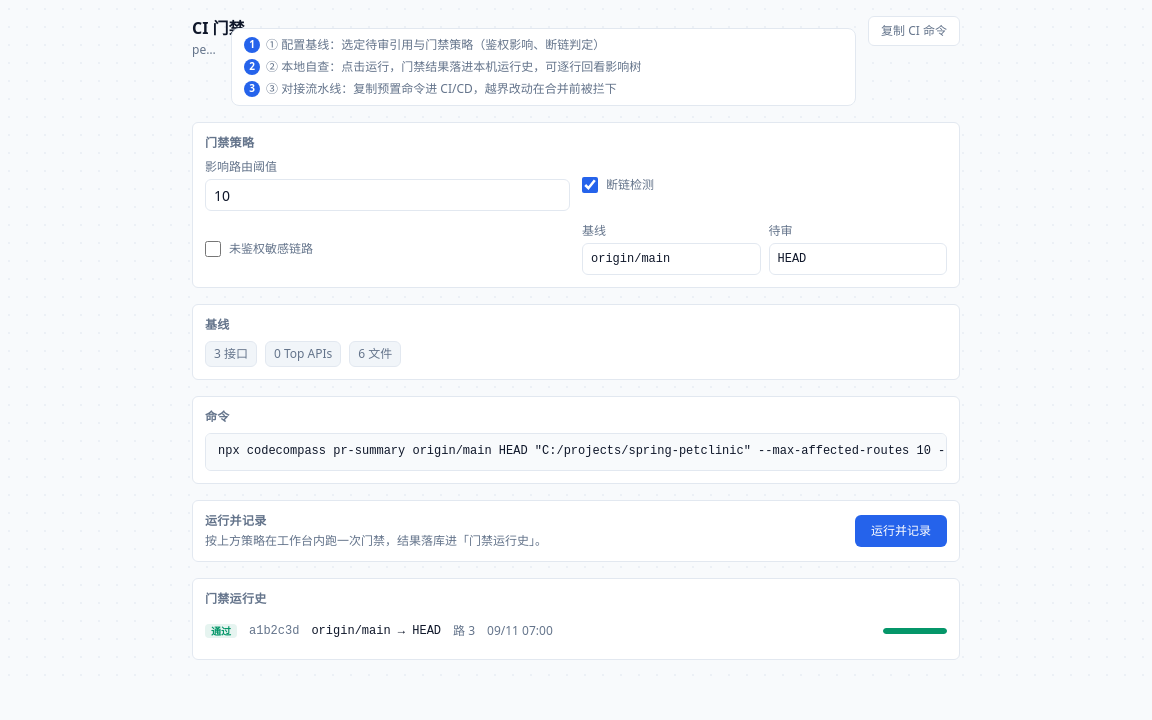
CiGateView (v0.26-B ticket 02 — 三段化：运行并记录 + 门禁运行史) › runs the gate and prepends the echo row to the history list, then shows its verdict badge
Expected: the number of list items with test id "gate-run-row" is 1, x1=205 y1=622 x2=947 y2=638
What coordinates should you click on to do the following:
click the button with test id "gate-run"
I would click on:
 (901, 530)
Its box is x1=855 y1=514 x2=947 y2=546.
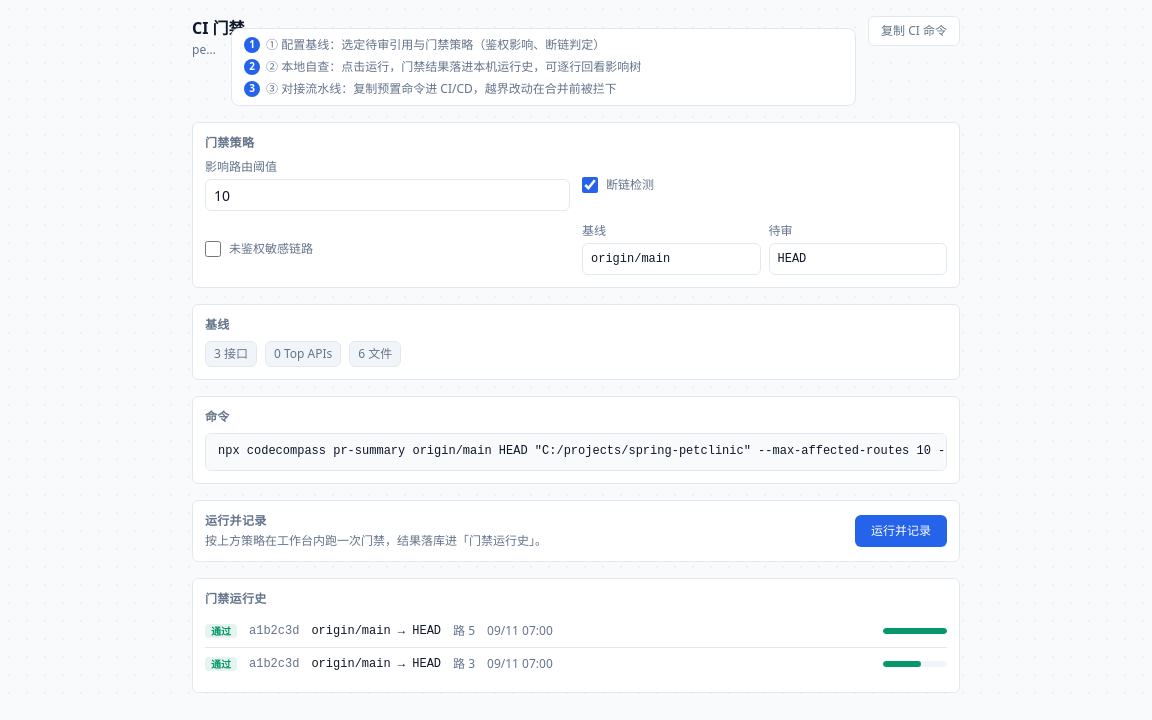
Expected: the list item with test id "gate-run-row" shows "通过", x1=211 y1=624 x2=231 y2=638
Expected: the number of list items with test id "gate-run-row" is 2, x1=205 y1=622 x2=947 y2=638; x1=205 y1=646 x2=947 y2=680
Expected: the list item with test id "gate-run-row" shows "路 5", x1=205 y1=622 x2=947 y2=638
